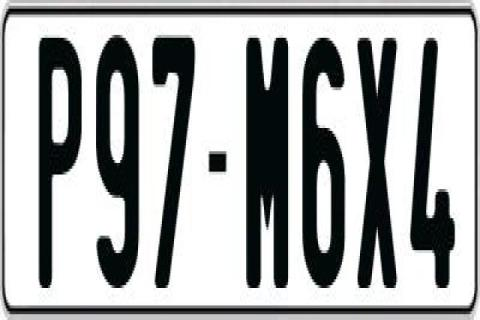0: (96, 29, 144, 297), (152, 38, 199, 302), (410, 35, 456, 303), (302, 29, 346, 294)
M: (244, 32, 292, 288)
P: (38, 35, 82, 285)
X: (356, 29, 398, 285)
